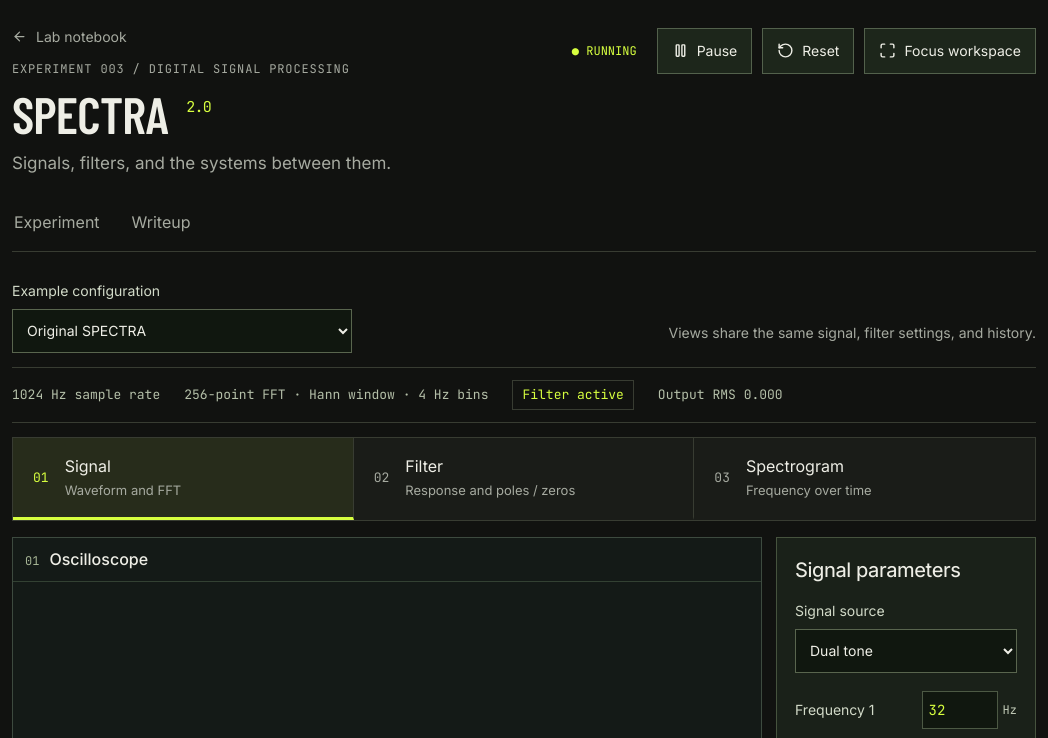
Test case: presets apply across views and reset restores signal and filter defaults
Click the tab "02 Filter Response and poles / zeros".
click(424, 466)  # box x1=354 y1=438 x2=694 y2=520
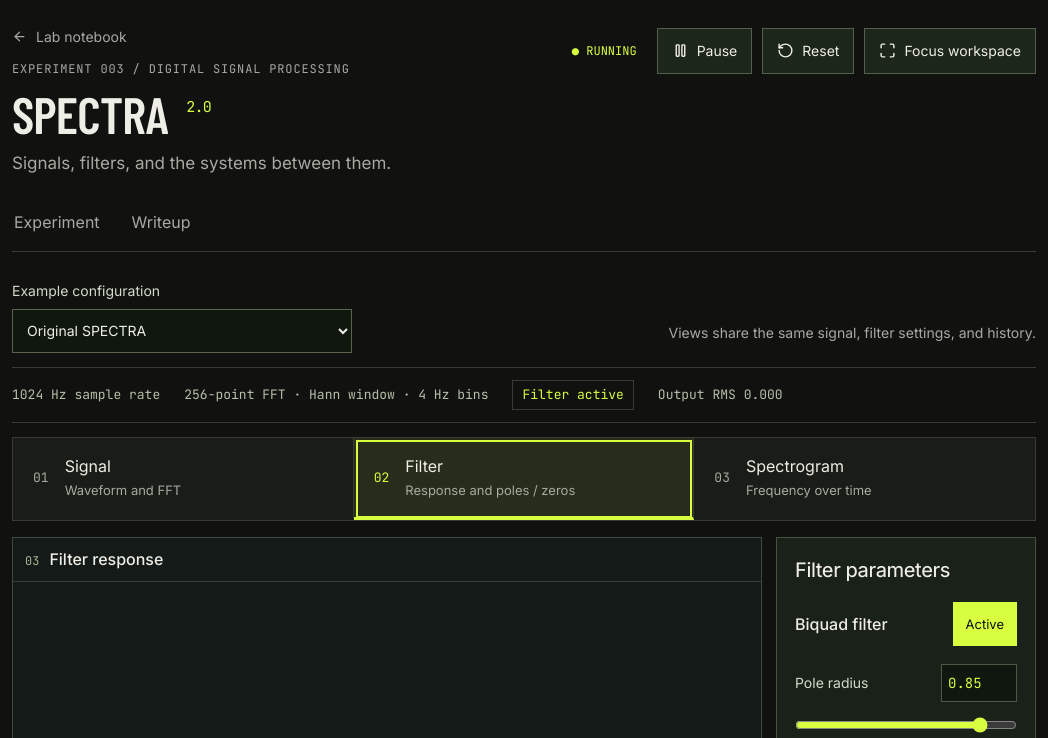
Select "Remove the 96 Hz tone" in the dropdown labelled "Example configuration" at (182, 330), box x1=12 y1=308 x2=352 y2=352
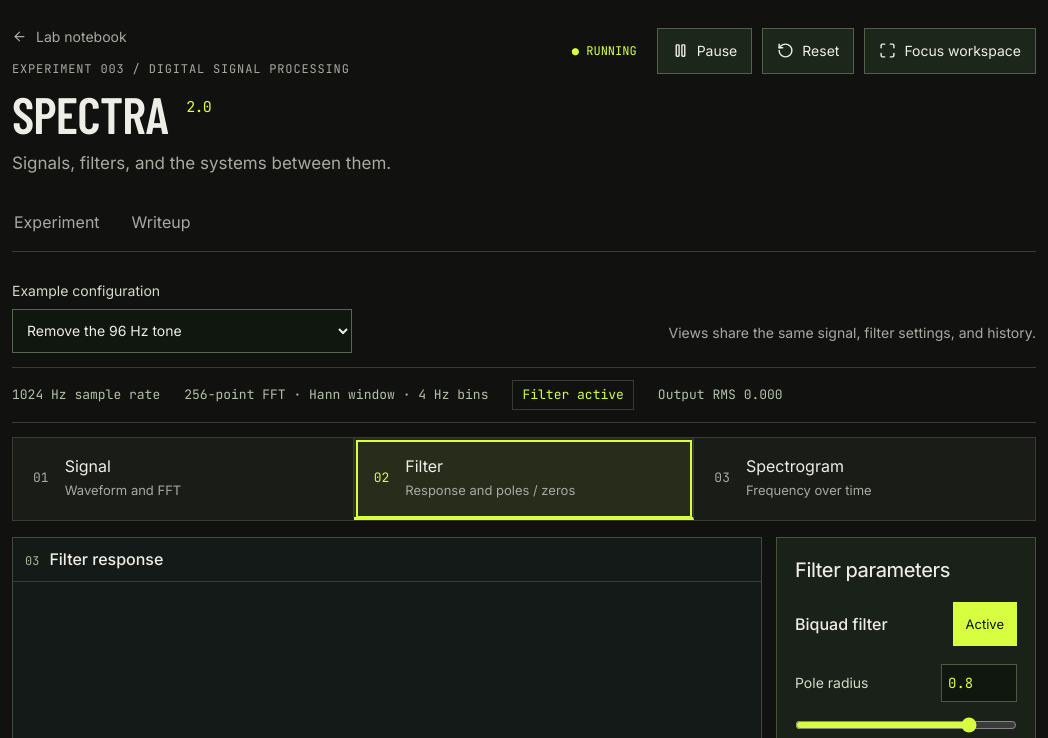
Click the tab "01 Signal Waveform and FFT".
click(88, 466)  # box x1=13 y1=438 x2=354 y2=520
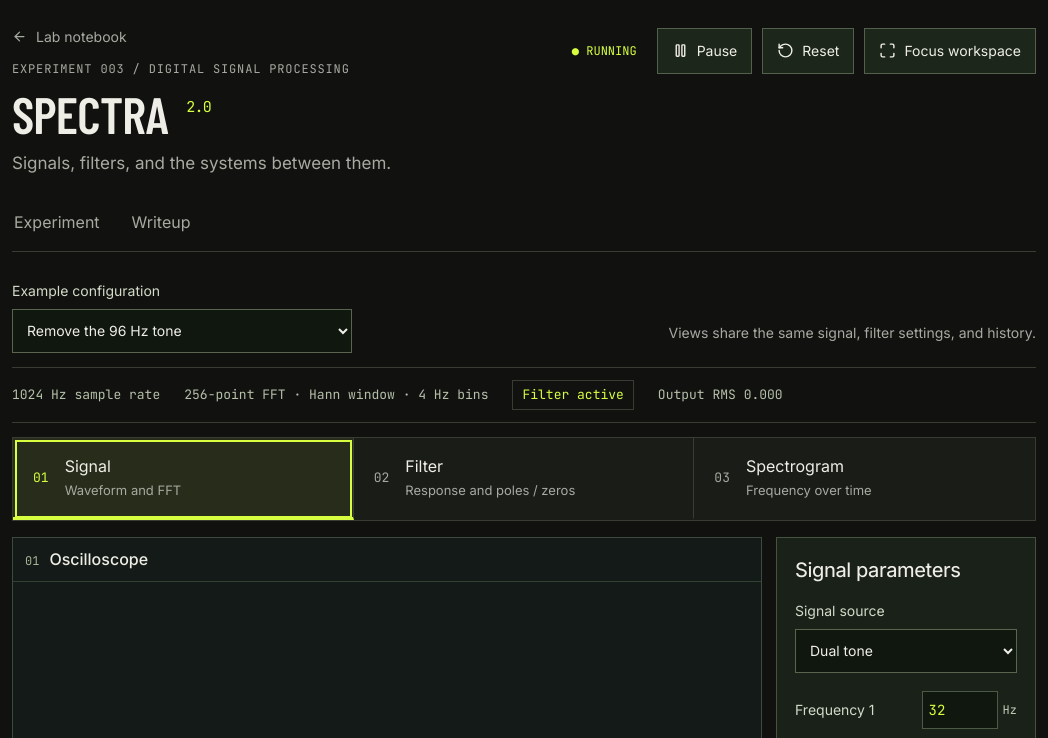
Select "White noise" in the dropdown labelled "Signal source" at (906, 651), box x1=795 y1=629 x2=1017 y2=673
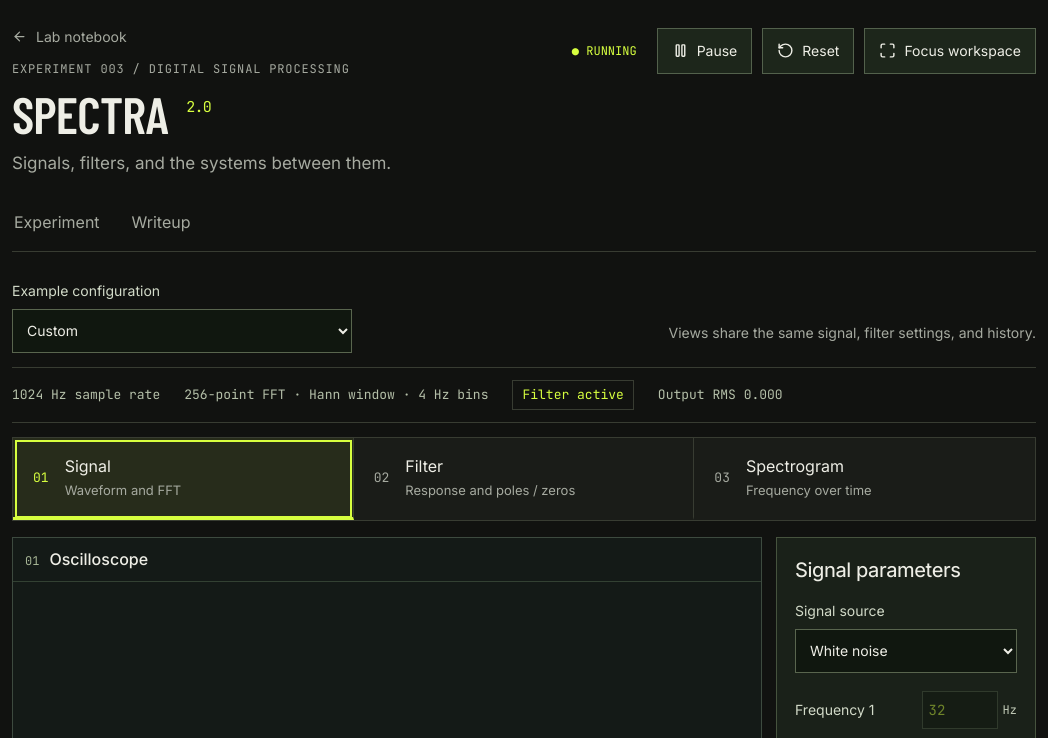
Expected: the number field named "Frequency 1 value" is disabled, x1=922 y1=691 x2=998 y2=729
Click the button "Reset".
click(808, 51)  # box x1=762 y1=28 x2=854 y2=74
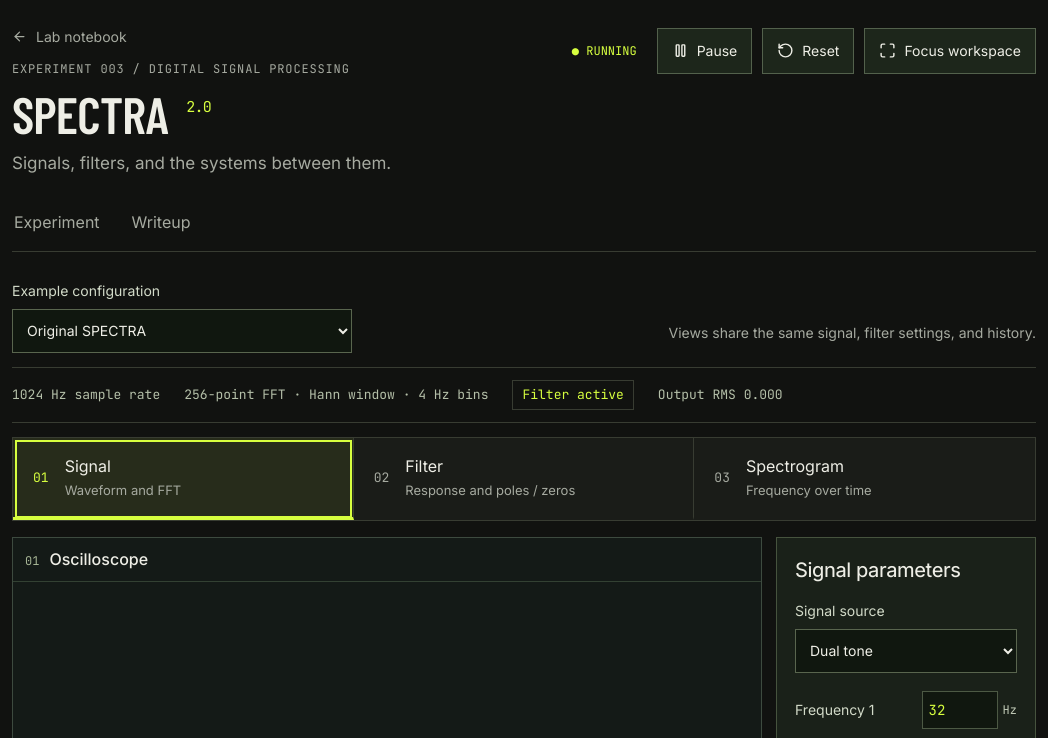
Click the tab "02 Filter Response and poles / zeros".
click(424, 466)  # box x1=354 y1=438 x2=694 y2=520
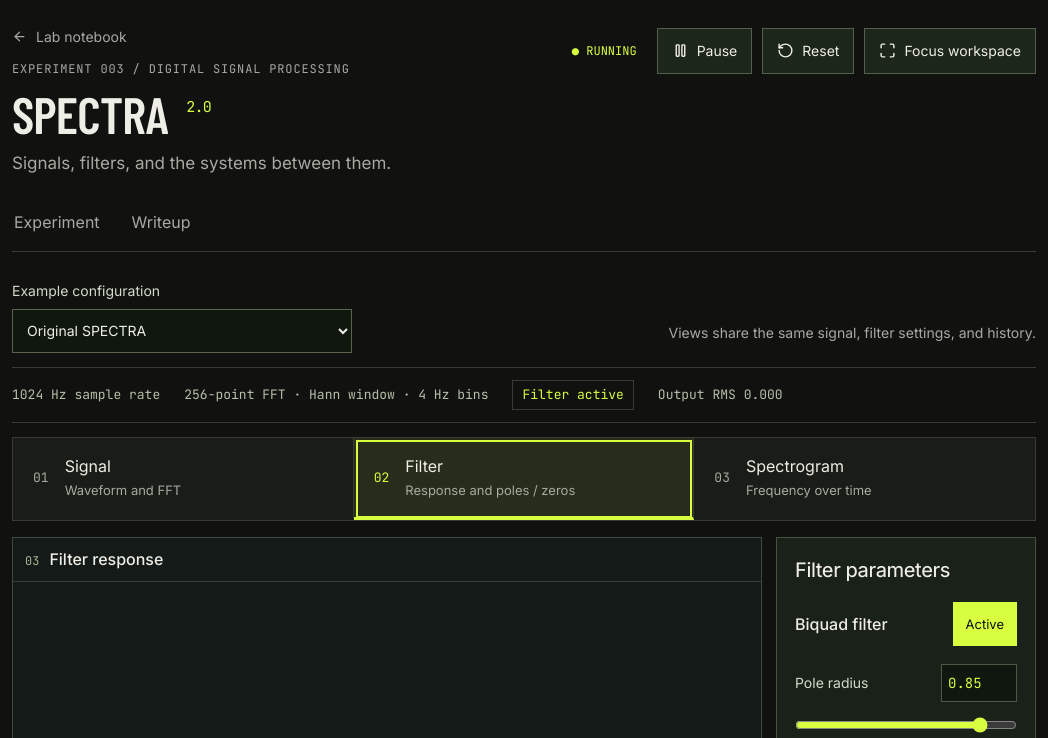
Expected: the number field named "Pole radius value" holds "0.85", x1=941 y1=664 x2=1017 y2=702
